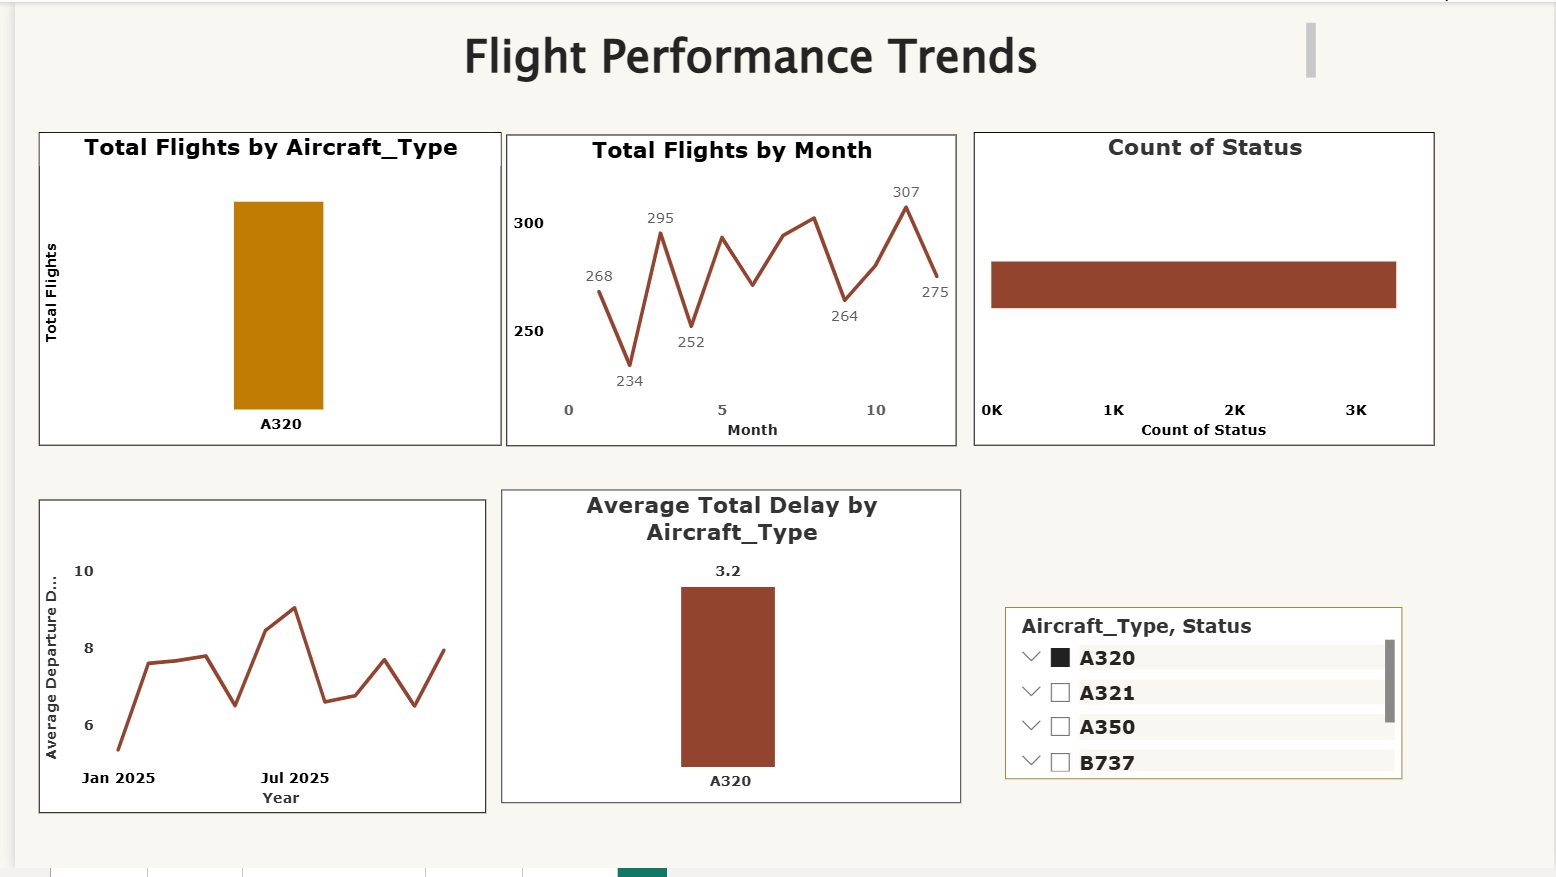

This screenshot's page, from the dashboard's own definition file:
{"tool":"powerbi","page":{"name":"Day 17","canvas":[1280,720],"ordinal":1},"visuals":[{"type":"clusteredColumnChart","fields":{"Category":["Airline_cleaned_dataset15.Aircraft_Type"],"Y":["Airline_cleaned_dataset15.Total Flights"]},"box":[20,107.8,384.4,261.1],"z":0},{"type":"lineChart","fields":{"Category":["Airline_cleaned_dataset15.Flight_Date.Variation.Date Hierarchy.Year","Airline_cleaned_dataset15.Flight_Date.Variation.Date Hierarchy.Quarter","Airline_cleaned_dataset15.Flight_Date.Variation.Date Hierarchy.Month","Airline_cleaned_dataset15.Flight_Date.Variation.Date Hierarchy.Day"],"Y":["Airline_cleaned_dataset15.Average Departure Delay"]},"box":[20,413.3,372.2,261.1],"z":1000},{"type":"slicer","fields":{"Values":["Airline_cleaned_dataset15.Aircraft_Type","Airline_cleaned_dataset15.Status"]},"box":[823.3,503.3,330,143.3],"z":2000},{"type":"lineChart","fields":{"Category":["Airline_cleaned_dataset15.Month"],"Y":["Airline_cleaned_dataset15.Total Flights"]},"box":[408.9,110,374.4,258.9],"z":3000},{"type":"clusteredColumnChart","fields":{"Category":["Airline_cleaned_dataset15.Aircraft_Type"],"Y":["Airline_cleaned_dataset15.Average Total Delay"]},"box":[404.4,405.6,382.2,261.1],"z":4000},{"type":"clusteredBarChart","fields":{"Y":["CountNonNull(Airline_cleaned_dataset15.Status)"]},"box":[796.7,107.8,383.3,261.1],"z":5000},{"type":"textbox","box":[145.6,12.2,941.1,61.1],"z":6000}]}

Visuals, with their boxes in screenshot pixels (x1, y1, x2, y2), scaled from the page's 1280x720 canvas onto the 1556x877 screenshot:
clusteredColumnChart - Airline_cleaned_dataset15.Aircraft_Type x Airline_cleaned_dataset15.Total Flights: locate(24, 131, 492, 449)
lineChart - Airline_cleaned_dataset15.Flight_Date.Variation.Date Hierarchy.Year x Airline_cleaned_dataset15.Flight_Date.Variation.Date Hierarchy.Quarter: locate(24, 503, 477, 821)
slicer - Airline_cleaned_dataset15.Aircraft_Type x Airline_cleaned_dataset15.Status: locate(1001, 613, 1402, 788)
lineChart - Airline_cleaned_dataset15.Month x Airline_cleaned_dataset15.Total Flights: locate(497, 134, 952, 449)
clusteredColumnChart - Airline_cleaned_dataset15.Aircraft_Type x Airline_cleaned_dataset15.Average Total Delay: locate(492, 494, 956, 812)
clusteredBarChart - CountNonNull(Airline_cleaned_dataset15.Status): locate(968, 131, 1434, 449)
textbox: locate(177, 15, 1321, 89)
